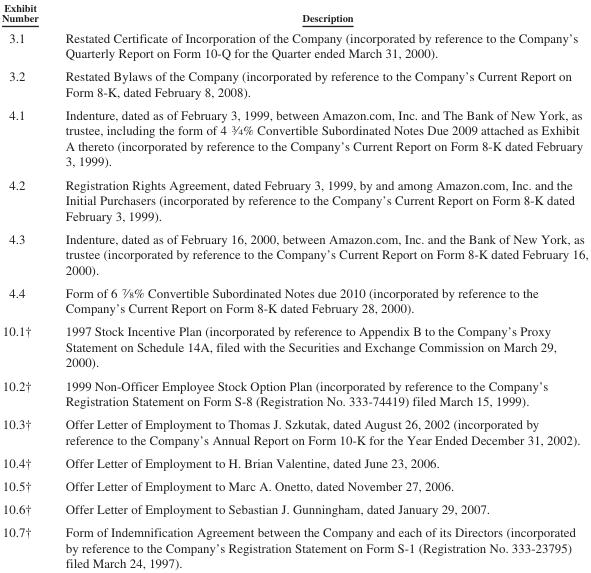table: (1, 1, 587, 570)
table column: (51, 1, 587, 570), (1, 1, 51, 570)
table column header: (1, 1, 587, 26)
table row: (1, 102, 587, 172), (1, 172, 587, 226), (1, 319, 587, 373), (1, 226, 587, 279), (1, 520, 587, 570), (1, 279, 587, 319), (1, 373, 587, 412), (1, 26, 587, 64), (1, 64, 587, 102), (1, 412, 587, 450), (1, 1, 587, 26), (1, 473, 587, 497), (1, 450, 587, 473), (1, 497, 587, 520)
